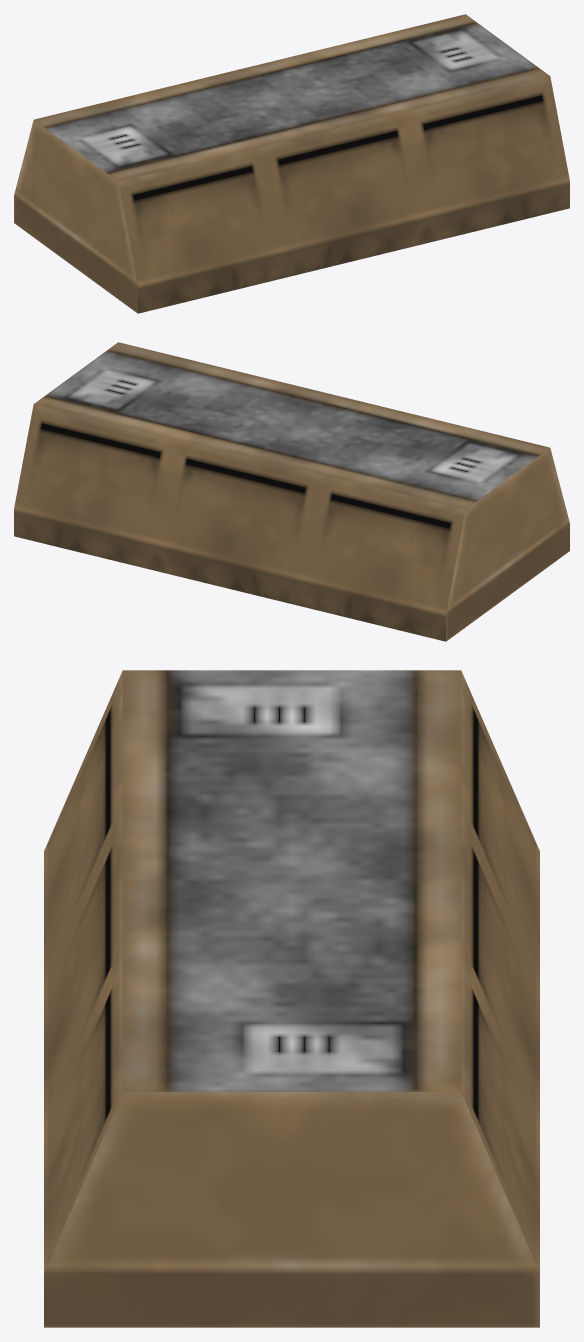
The model's file is hpg_walkway.glb.
The picture shows the model from 3 angles, top to bottom: view 1: azimuth 30°, elevation 25°; view 2: azimuth 150°, elevation 25°; view 3: azimuth 270°, elevation 25°; orthographic projection. The views are drawn at different scales.
Parts seen in each view (by area): view 1: HPG_Walkway; view 2: HPG_Walkway; view 3: HPG_Walkway.
Boxes of the visible parts, bbox=[...] form: HPG_Walkway: bbox=[14, 14, 569, 313]; HPG_Walkway: bbox=[14, 342, 569, 641]; HPG_Walkway: bbox=[44, 670, 539, 1327].
Bounding box in the file's own units: 25.59 × 6.67 × 12.71.
Materials: 1 (1 with a texture image).
